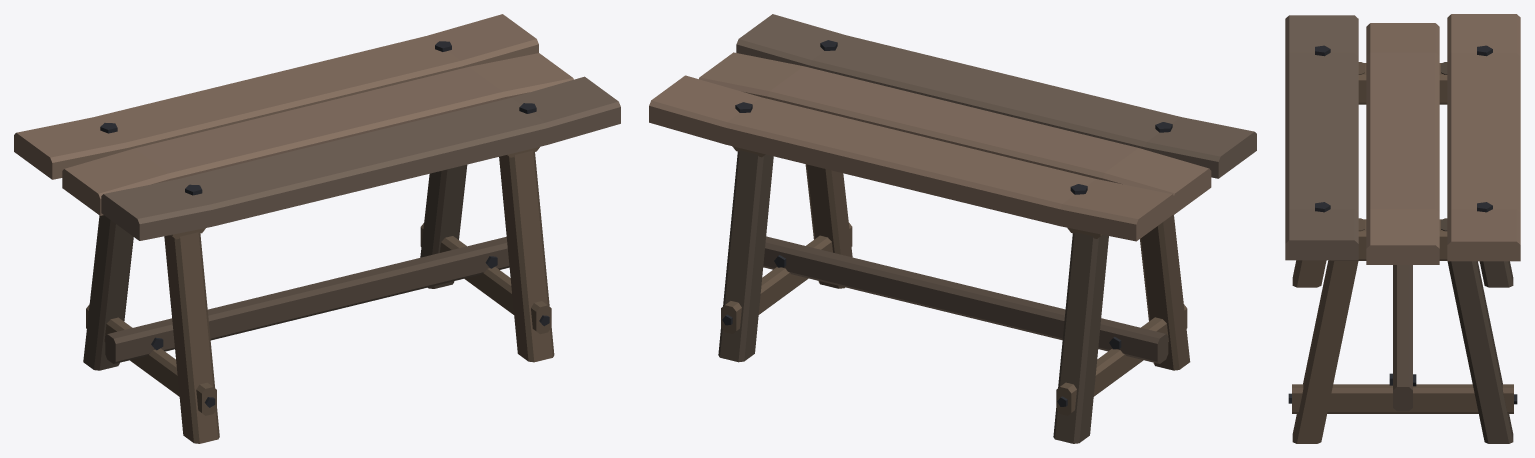
The model's file is timber-trestle-table-024d88.glb.
3 views of the same model, side by side, from view 1: azimuth 30°, elevation 25°; view 2: azimuth 150°, elevation 25°; view 3: azimuth 270°, elevation 25° (orthographic). The views are drawn at different scales.
Bounding box in the file's own units: 1.6 × 0.762 × 0.7.
